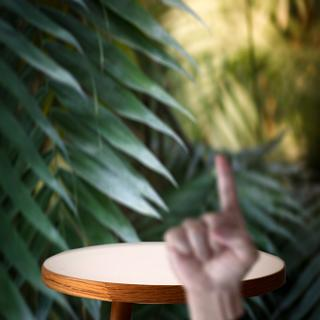IRRITATED: (157, 150, 261, 297)
